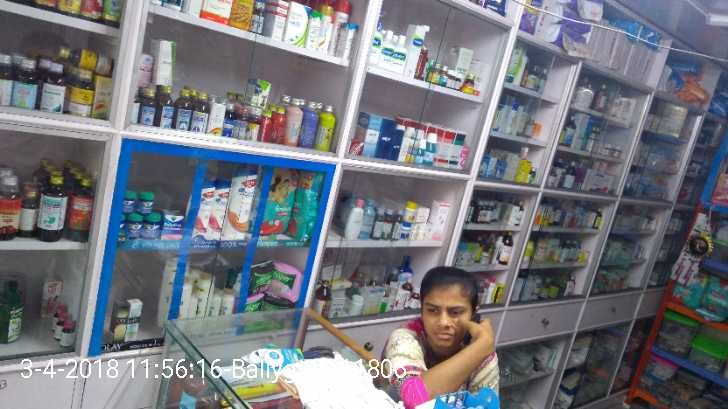vicks: (123, 190, 185, 235)
